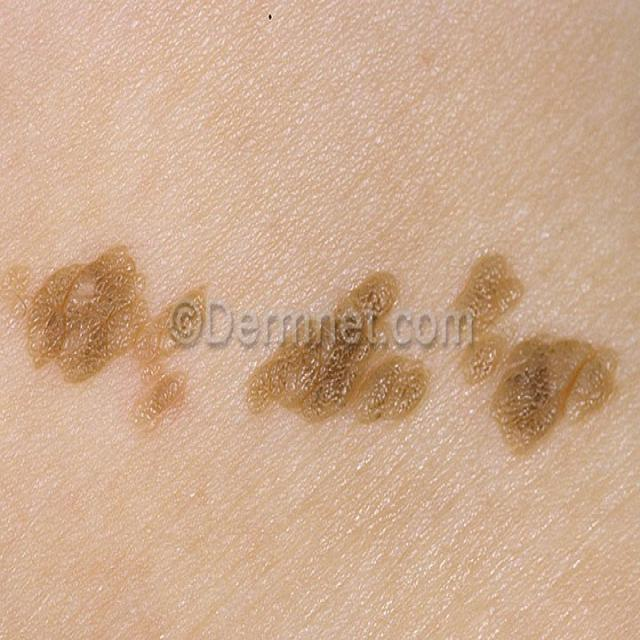Eczema: (0, 230, 620, 440)
